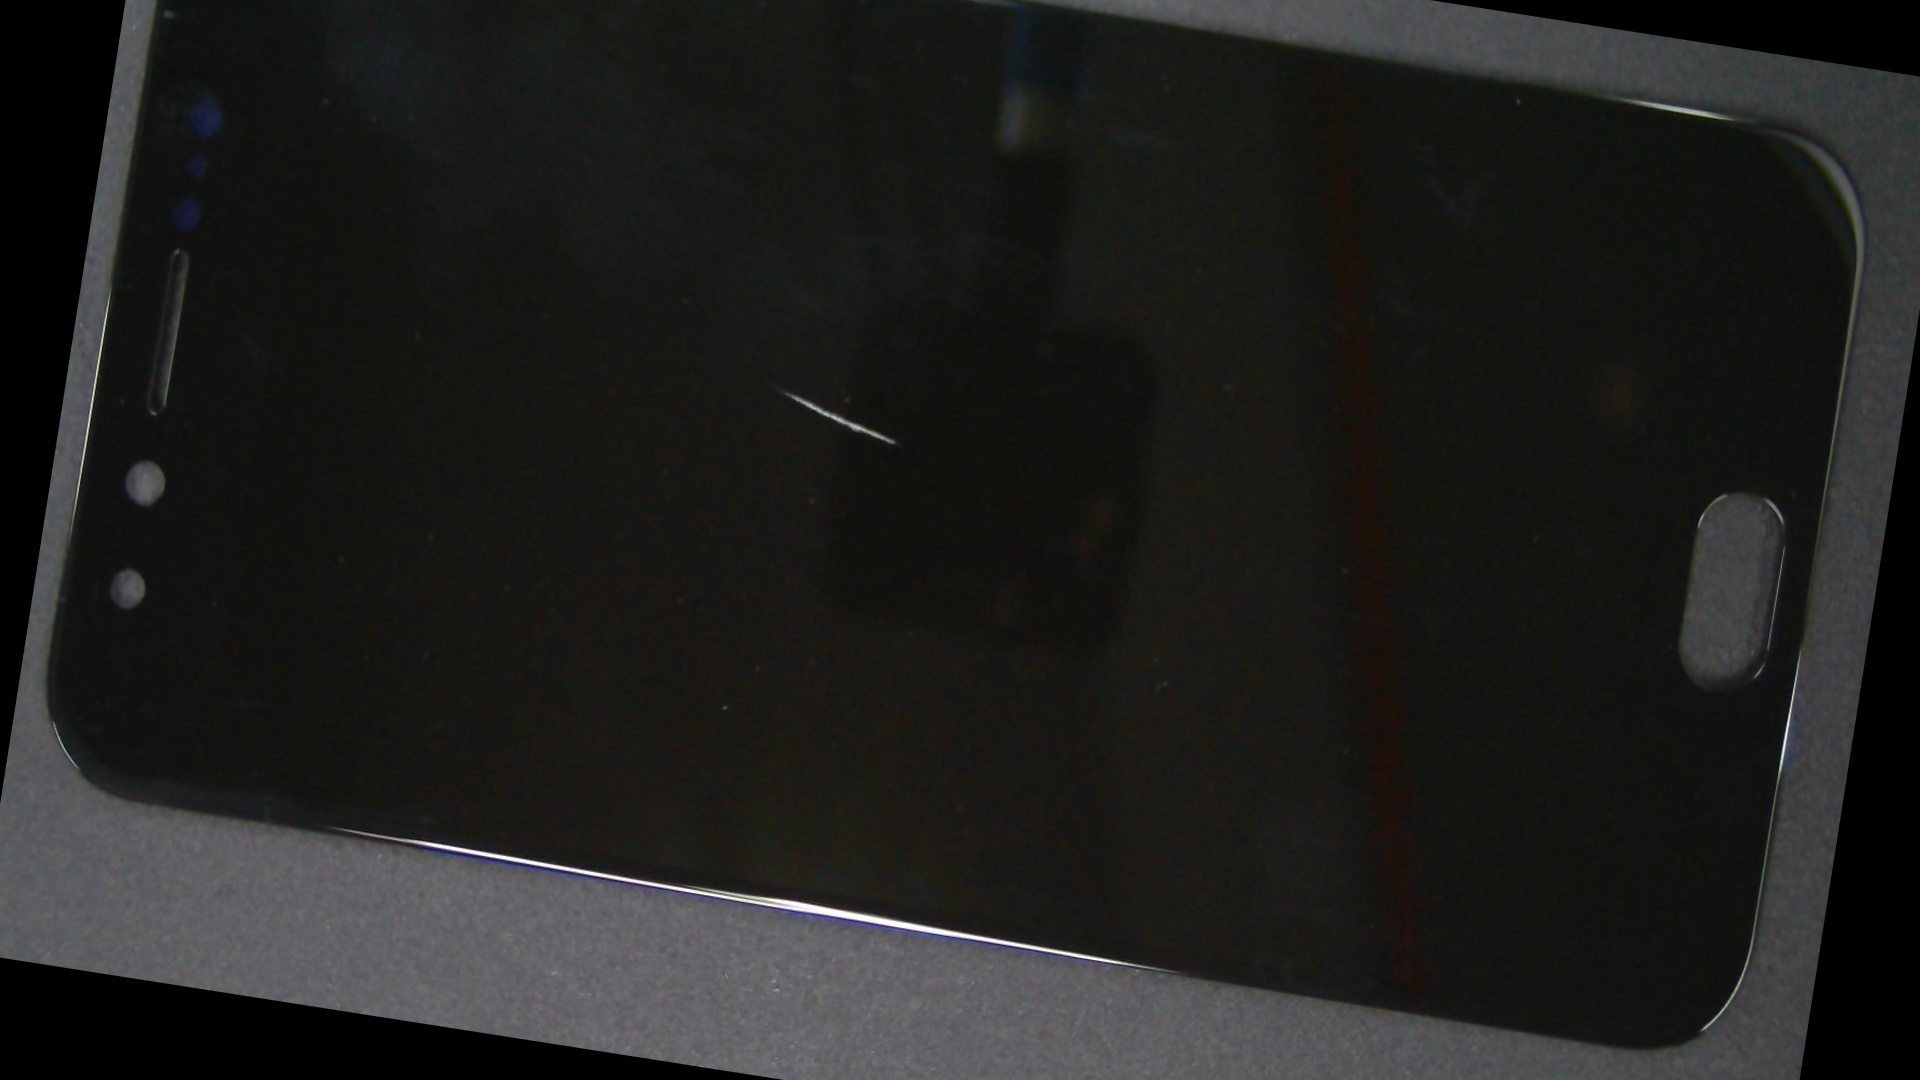oil: (393, 94, 1163, 683)
